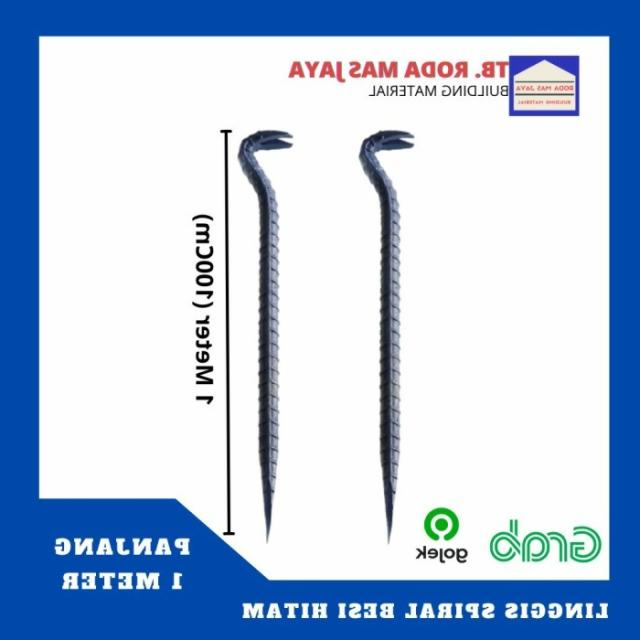Linggis: (360, 129, 416, 541)
